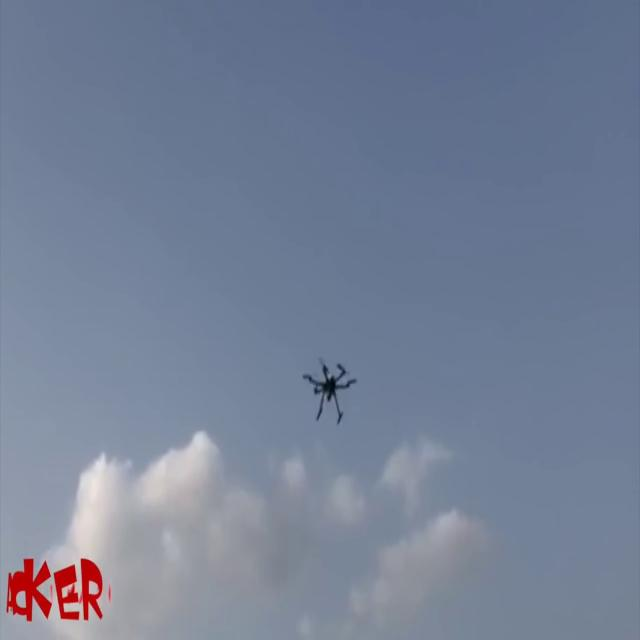drone: (299, 339, 360, 432)
